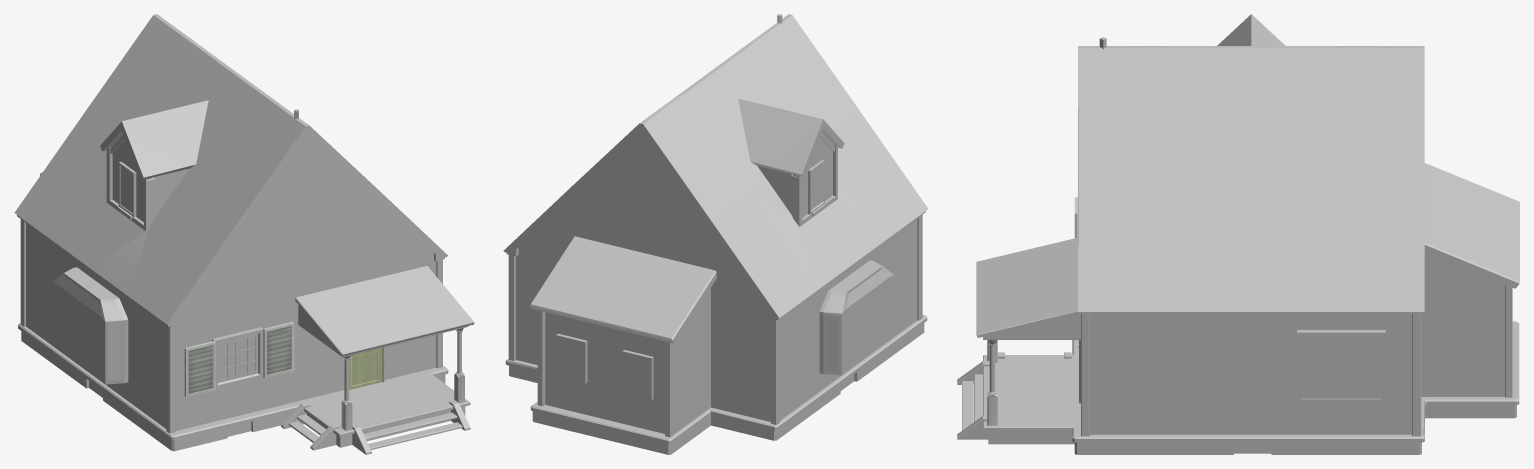
The picture shows the model from 3 angles, left to right: view 1: azimuth 30°, elevation 25°; view 2: azimuth 150°, elevation 25°; view 3: azimuth 270°, elevation 25°; orthographic projection. The views are drawn at different scales.
Visible parts, largest first — view 1: 1_guixianwu_002, 1_guixianwur_005, 1_guixianwur_006, 1_guixianwu_004, 1_guixianwu_001; view 2: 1_guixianwu_002, 1_guixianwur_005, 1_guixianwur_006, 1_guixianwu_004; view 3: 1_guixianwu_002, 1_guixianwur_005, 1_guixianwur_006, 1_guixianwu_004.
Boxes of the visible parts, bbox=[...] form: 1_guixianwu_002: bbox=[14, 14, 474, 357]; 1_guixianwur_005: bbox=[26, 133, 436, 430]; 1_guixianwur_006: bbox=[17, 109, 470, 454]; 1_guixianwu_004: bbox=[55, 167, 255, 380]; 1_guixianwu_001: bbox=[184, 321, 384, 397]; 1_guixianwu_002: bbox=[503, 14, 928, 343]; 1_guixianwur_005: bbox=[516, 131, 917, 434]; 1_guixianwur_006: bbox=[505, 14, 927, 454]; 1_guixianwu_004: bbox=[559, 165, 891, 396]; 1_guixianwu_002: bbox=[976, 14, 1519, 339]; 1_guixianwur_005: bbox=[1090, 252, 1505, 434]; 1_guixianwur_006: bbox=[957, 37, 1519, 454]; 1_guixianwu_004: bbox=[1301, 336, 1381, 398].
Size of the model in its own units: 936 by 907 by 1360.
